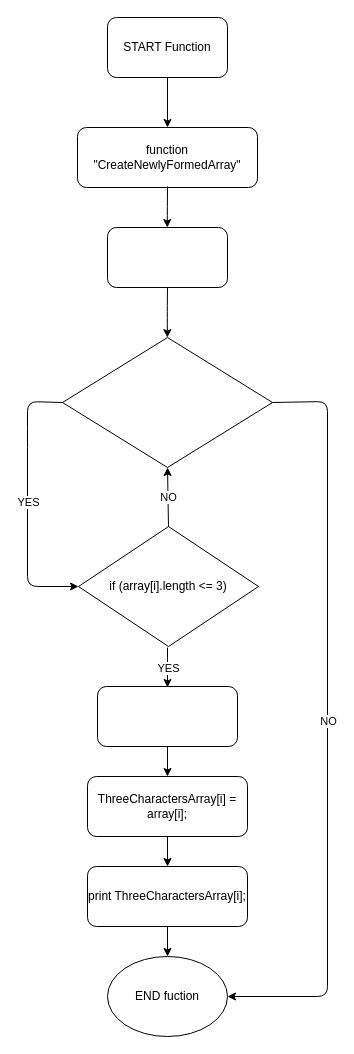
The diagram is 354 pixels wide and 1054 high, and some of its shapes have lost their labels. Each missing label, with the box of its shape:
FOR (i = 0; i < array.length; i++): (62, 336, 272, 468)
string array[ ];: (106, 226, 228, 288)
string new array "ThreeCharactersArray": (96, 686, 238, 746)
